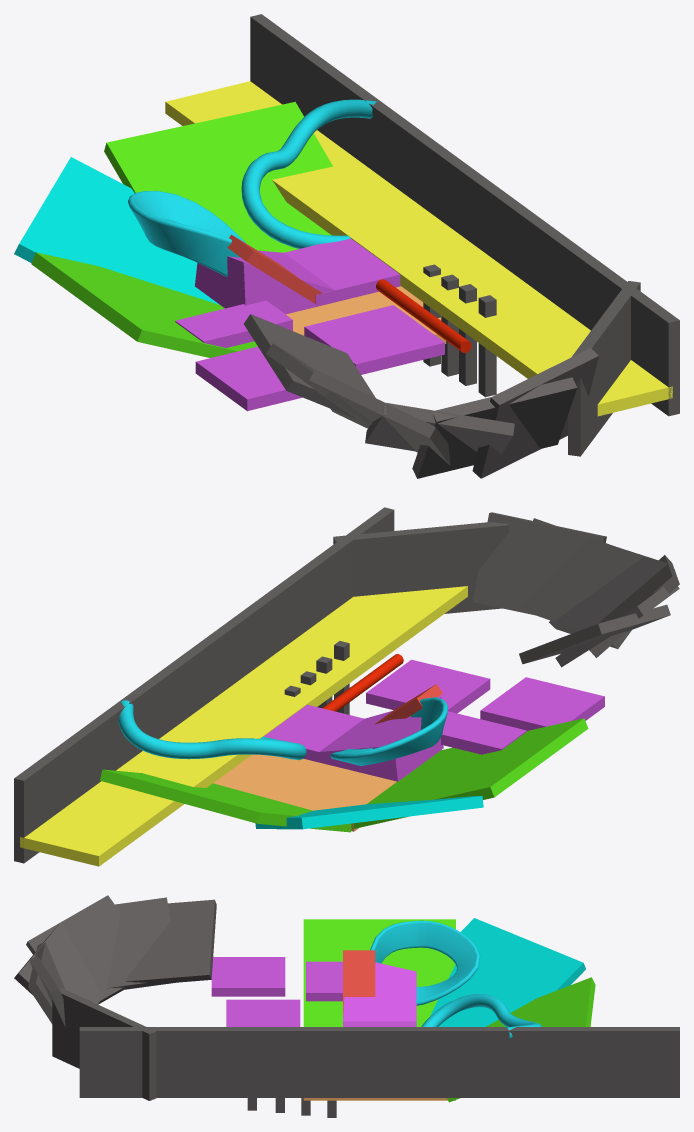
3 renders of one model, top to bottom at view 1: azimuth 30°, elevation 25°; view 2: azimuth 150°, elevation 25°; view 3: azimuth 270°, elevation 25°, orthographic. The views are drawn at different scales.
Parts seen in each view (by area): view 1: Cube.013, Cube.006, Cube.004, Cube.005, Cube.003, Cube.018, Cube.026, BézierCurve.002, Cube.017, BézierCurve.001, Cube.014, Cube.034 (+13 smaller); view 2: Cube.006, Cube.013, Cube.017, Cube.003, Cube.025, Cube.002, Cube.004, Cube.026, Cube.019, Cube.018, Cube.014, BézierCurve.001 (+10 smaller); view 3: Cube.013, Cube.005, Cube.003, Cube.034, BézierCurve.002, Cube.017, Cube.032, Cube.033, Cube.014, Cube.019, Cube.004, Cube.031 (+8 smaller).
Part boxes in pixels (x1=…): Cube.013: x1=250, y1=14, x2=679, y2=416; Cube.006: x1=165, y1=81, x2=672, y2=416; Cube.004: x1=104, y1=101, x2=332, y2=252; Cube.005: x1=14, y1=157, x2=219, y2=304; Cube.003: x1=31, y1=252, x2=257, y2=357; Cube.018: x1=304, y1=305, x2=444, y2=374; Cube.026: x1=412, y1=377, x2=577, y2=478; BézierCurve.002: x1=128, y1=190, x2=246, y2=276; Cube.017: x1=568, y1=281, x2=640, y2=456; BézierCurve.001: x1=241, y1=99, x2=378, y2=248; Cube.014: x1=195, y1=250, x2=334, y2=314; Cube.034: x1=244, y1=314, x2=375, y2=419; Cube.006: x1=20, y1=586, x2=467, y2=866; Cube.013: x1=14, y1=507, x2=394, y2=863; Cube.017: x1=333, y1=522, x2=508, y2=613; Cube.003: x1=351, y1=718, x2=588, y2=829; Cube.025: x1=473, y1=512, x2=606, y2=615; Cube.002: x1=213, y1=754, x2=396, y2=831; Cube.004: x1=100, y1=769, x2=351, y2=832; Cube.026: x1=519, y1=518, x2=643, y2=621; Cube.019: x1=480, y1=677, x2=604, y2=730; Cube.018: x1=366, y1=659, x2=490, y2=713; Cube.014: x1=319, y1=697, x2=443, y2=781; BézierCurve.001: x1=118, y1=700, x2=306, y2=760; Cube.013: x1=79, y1=1027, x2=679, y2=1097; Cube.005: x1=430, y1=918, x2=585, y2=1026; Cube.003: x1=303, y1=919, x2=455, y2=1026; Cube.034: x1=124, y1=899, x2=216, y2=985; BézierCurve.002: x1=370, y1=920, x2=480, y2=1005; Cube.017: x1=52, y1=987, x2=156, y2=1100; Cube.032: x1=26, y1=895, x2=123, y2=1004; Cube.033: x1=107, y1=897, x2=175, y2=989; Cube.014: x1=343, y1=962, x2=416, y2=1021; Cube.019: x1=211, y1=957, x2=285, y2=996; Cube.004: x1=447, y1=977, x2=595, y2=1102; Cube.031: x1=14, y1=922, x2=102, y2=1004.
Bounding box in the file's own units: 70.43 × 29.49 × 142.
